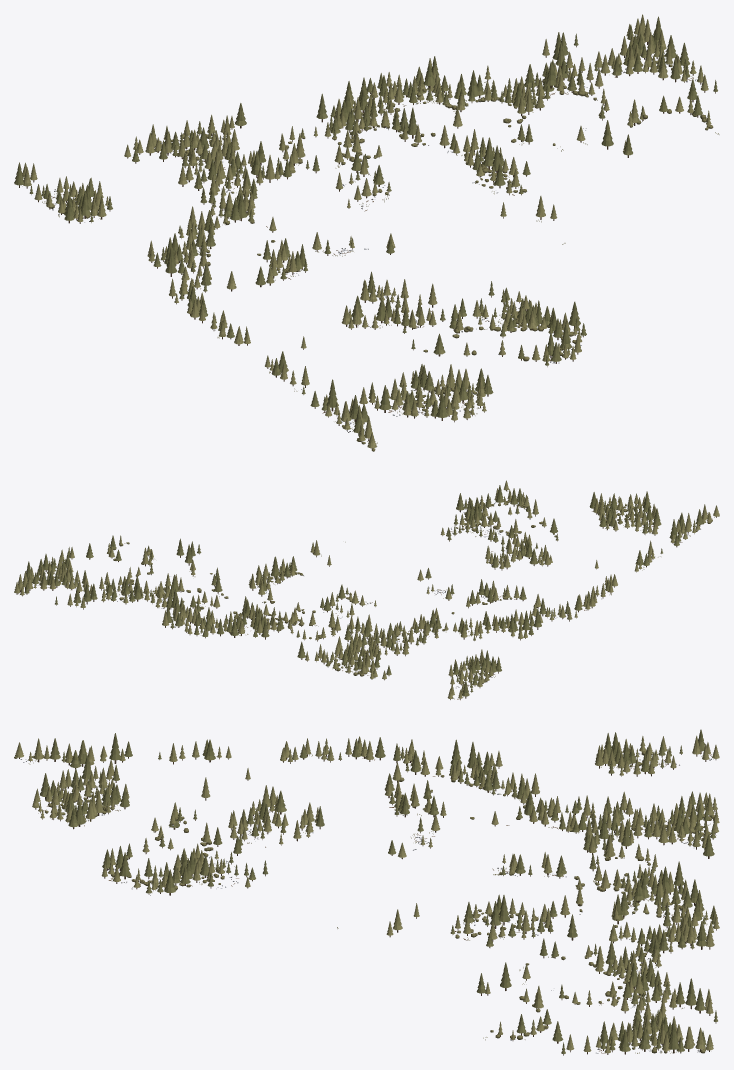
Rendered from Foliage_P1.fbx.
3 views of the same model, one above another, from view 1: azimuth 30°, elevation 25°; view 2: azimuth 150°, elevation 25°; view 3: azimuth 270°, elevation 25° (orthographic). The views are drawn at different scales.
Bounding box in the file's own units: 61675 × 6520 × 61184.
